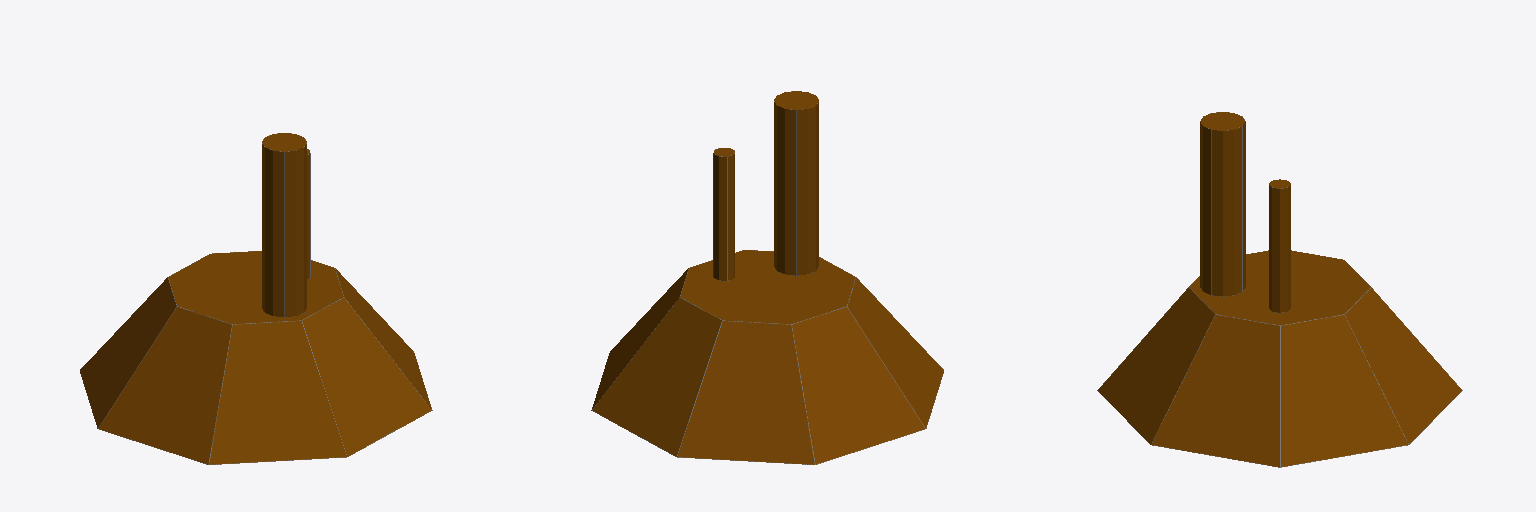
The picture shows the model from 3 angles: view 1: azimuth 30°, elevation 25°; view 2: azimuth 150°, elevation 25°; view 3: azimuth 270°, elevation 25°; orthographic projection.
Parts seen in each view (by area): view 1: Cylinder37; view 2: Cylinder37; view 3: Cylinder37.
Boxes of the visible parts, x1=… form: Cylinder37: x1=80, y1=133, x2=432, y2=464; Cylinder37: x1=591, y1=91, x2=943, y2=464; Cylinder37: x1=1097, y1=112, x2=1462, y2=467.
Bounding box in the file's own units: 160 × 130 × 160.
3 materials, 3 textured.